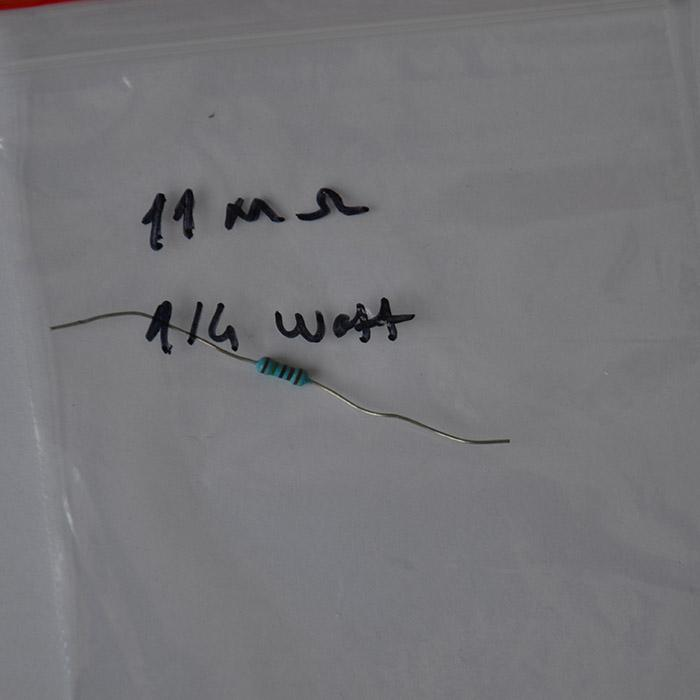resistor: (254, 357, 312, 388)
